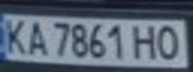1: (106, 21, 130, 60)
6: (87, 20, 109, 60)
7: (48, 19, 72, 57)
8: (66, 20, 90, 58)
A: (21, 18, 48, 56)
H: (127, 21, 163, 61)
K: (0, 16, 30, 55)
O: (151, 22, 187, 61)
